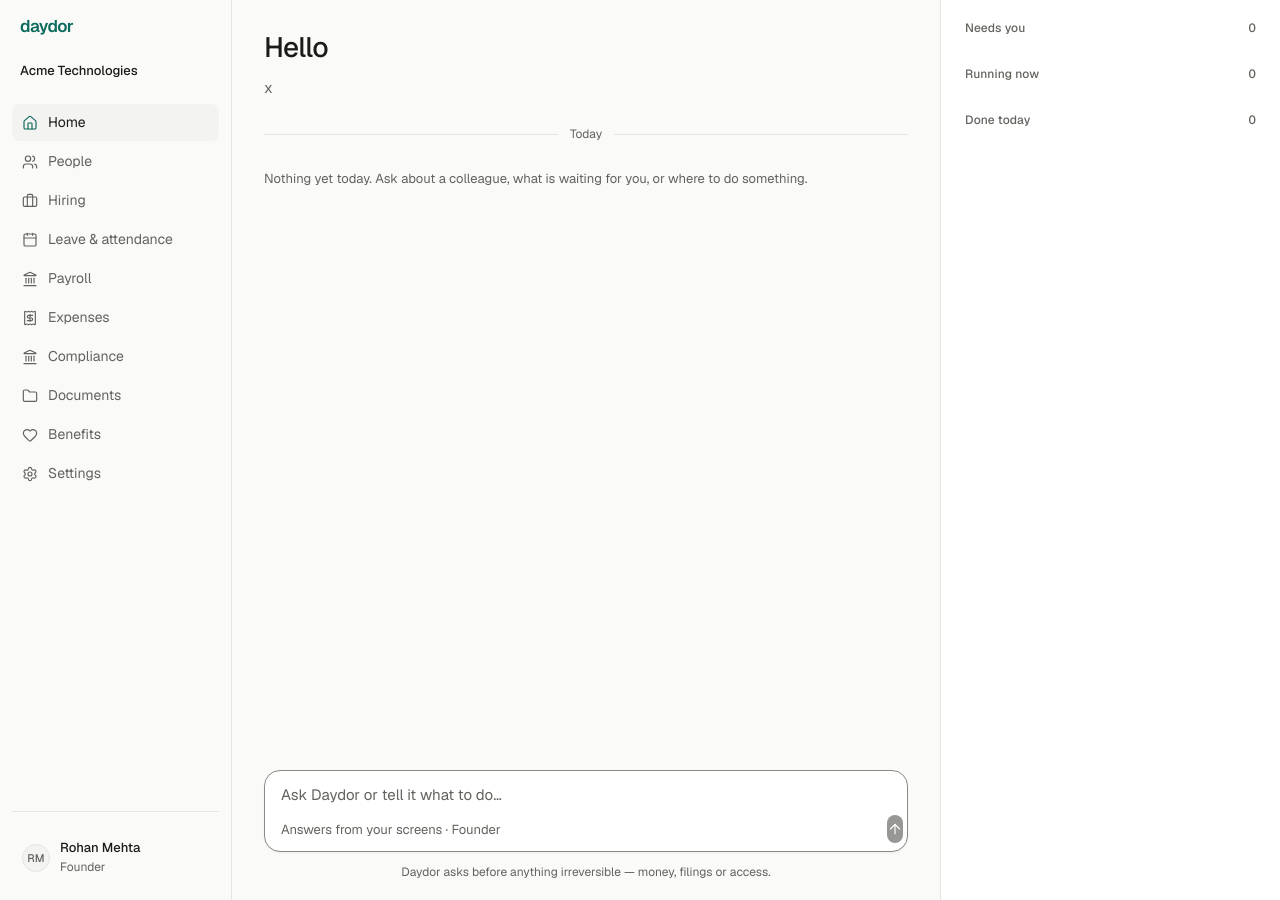
Test case: Home › sends what is typed and shows the answer, with a link to open
Type "where is leave" into the text box with placeholder "Ask Daydor or tell it what to do…" at [588, 795], box [281, 783, 895, 807]
Then press Enter
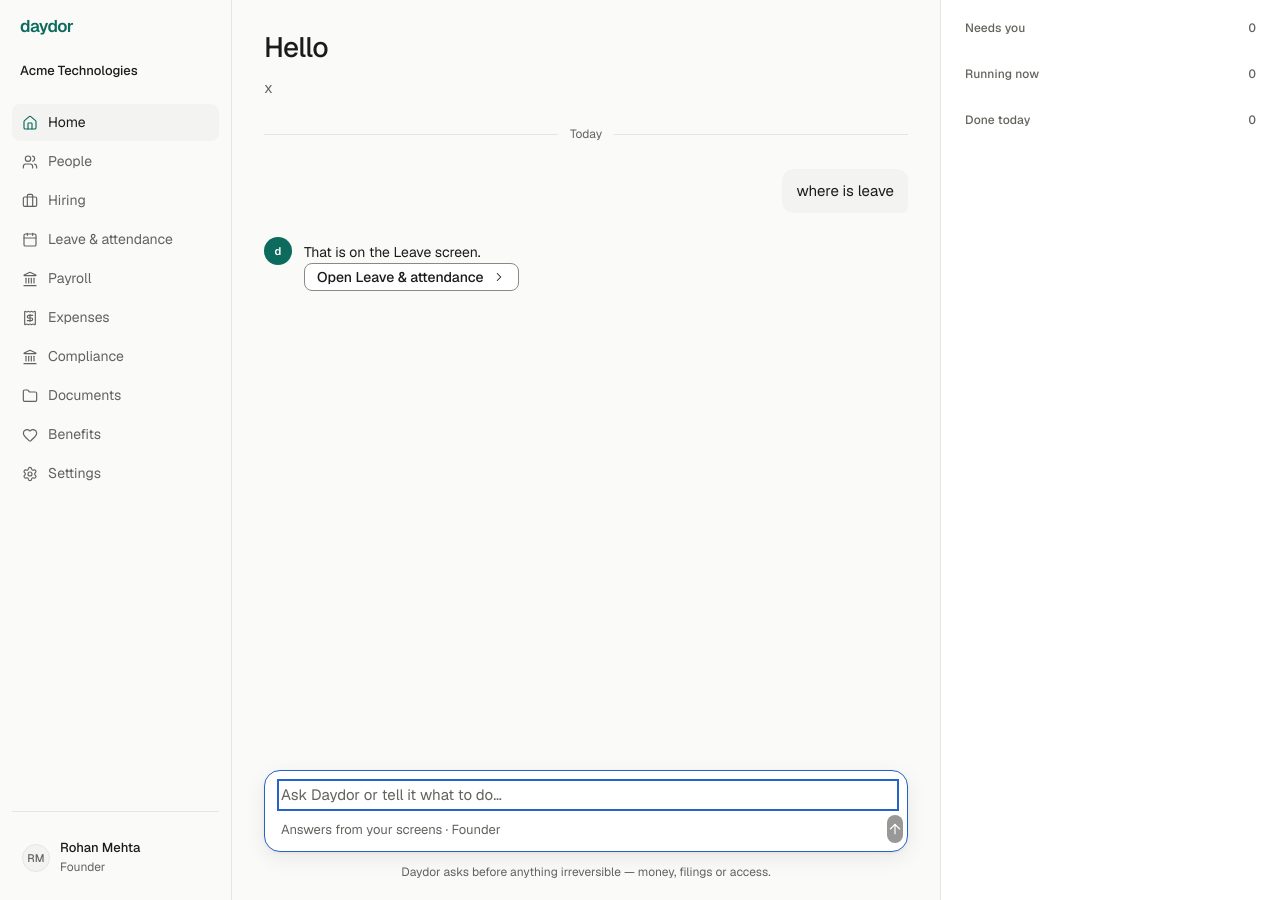
Expected: the text "That is on the Leave screen." is shown, [304, 243, 481, 261]
Expected: the button "Open Leave & attendance" is shown, [304, 263, 519, 291]
